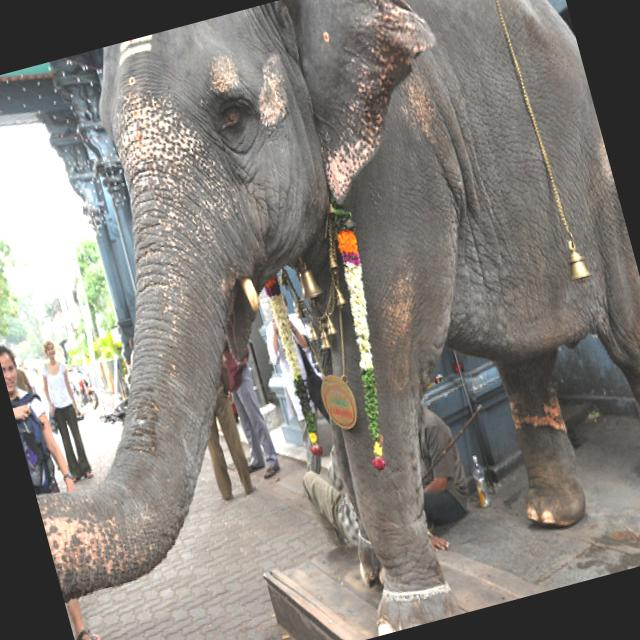Vehicle: (64, 358, 104, 419)
